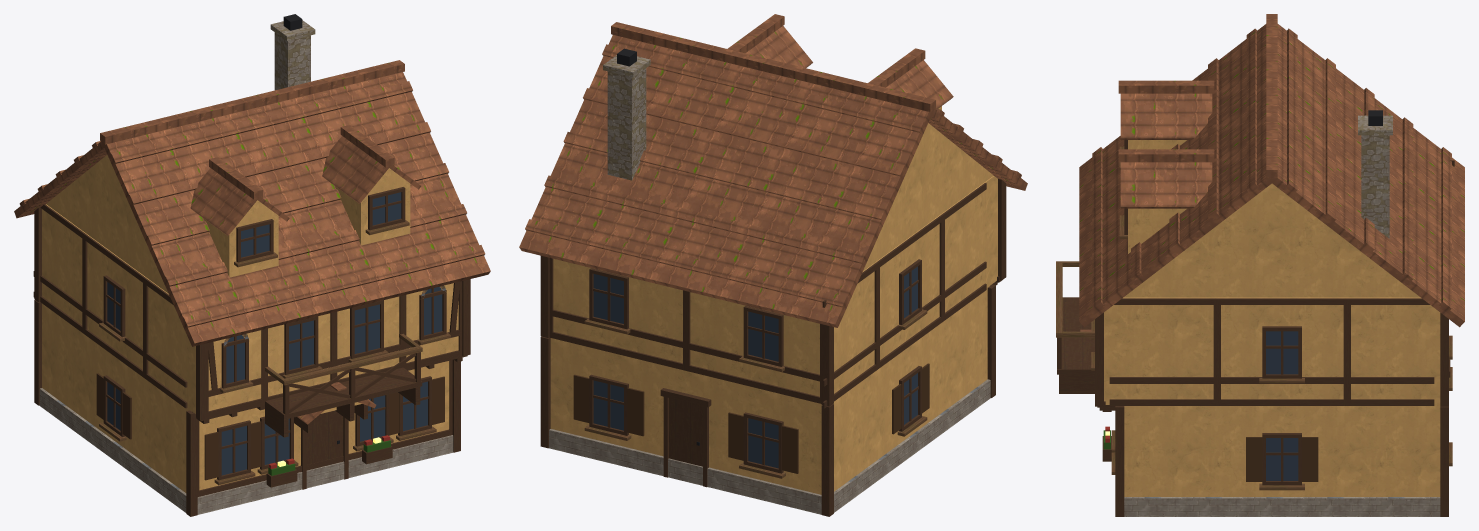
File: dormer_house.glb
The picture shows the model from 3 angles, left to right: view 1: azimuth 30°, elevation 25°; view 2: azimuth 150°, elevation 25°; view 3: azimuth 270°, elevation 25°; orthographic projection. The views are drawn at different scales.
Parts seen in each view (by area): view 1: dormer_house; view 2: dormer_house; view 3: dormer_house.
Boxes of the visible parts, x1,y1,x2,y2 form: dormer_house: (14,14,490,516); dormer_house: (519,14,1027,516); dormer_house: (1056,14,1464,516).
Size of the model in its own units: 9.1 by 10.32 by 10.07.
Materials: 11 (5 with a texture image).
